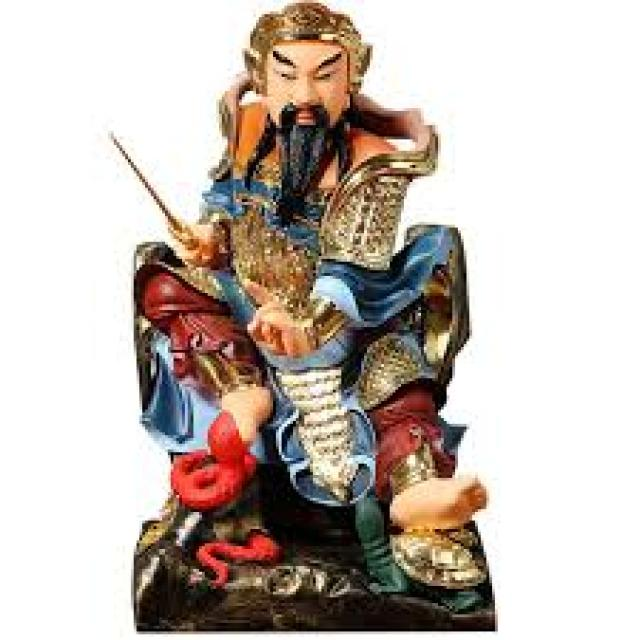Xuan wu: (130, 2, 492, 529)
